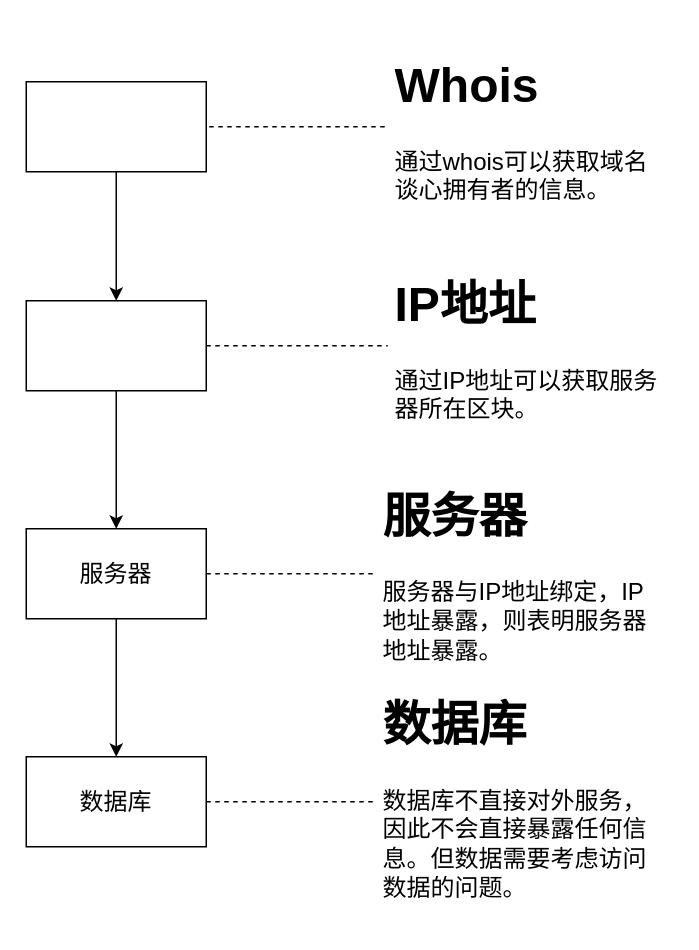
This 699x950 diagram has some shape labels left out. Each missing label, with the box of its shape:
IP地址: (25, 299, 206, 391)
域名: (25, 80, 206, 172)
